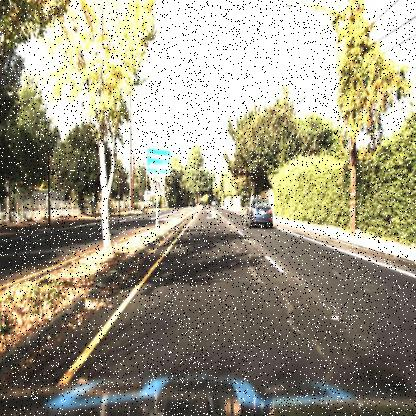car: (241, 196, 275, 232)
